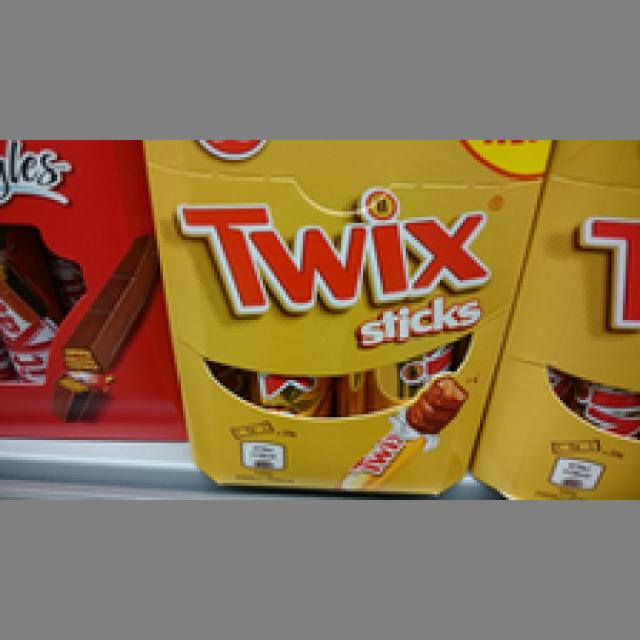groceries: (140, 140, 549, 489), (0, 134, 183, 443)
